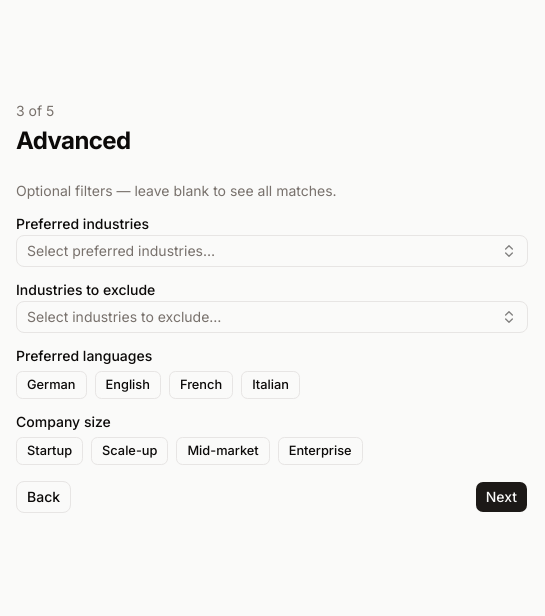
Test: OnboardingWizard › can go back from step 3 to step 2
Step 1. Click the button "Back" → (44, 497), box [16,481,71,513]
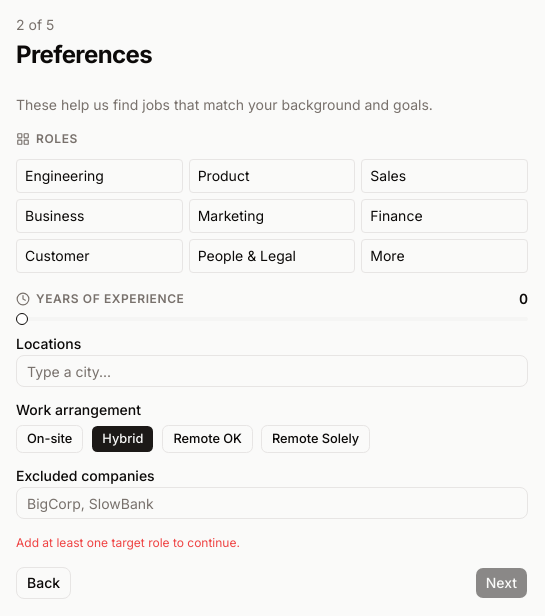
Expected: the text "2 of 5" is shown, [16,16,54,33]
